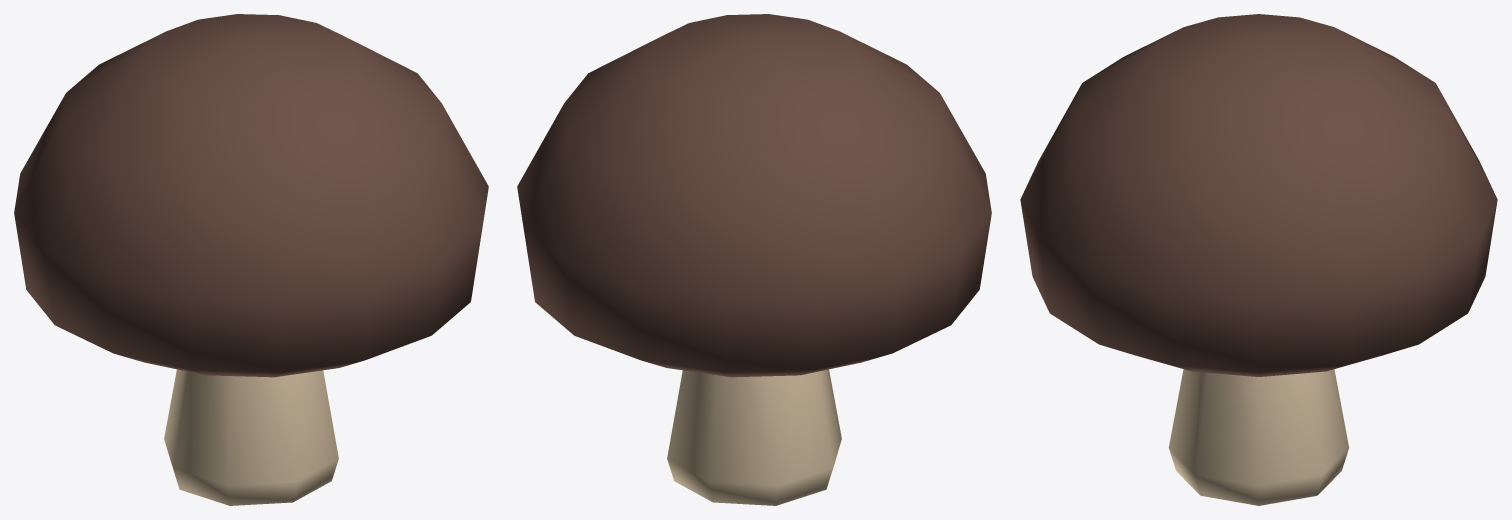
The model's file is Mushroom_01.fbx.
3 renders of one model, left to right at view 1: azimuth 30°, elevation 25°; view 2: azimuth 150°, elevation 25°; view 3: azimuth 270°, elevation 25°, orthographic.
Visible parts, largest first — view 1: Mushroom_01; view 2: Mushroom_01; view 3: Mushroom_01.
Part boxes in pixels (<box>): Mushroom_01: <box>14,14,488,505</box>; Mushroom_01: <box>517,14,991,505</box>; Mushroom_01: <box>1020,14,1497,505</box>.
Size of the model in its own units: 68.82 by 68.82 by 70.11.
